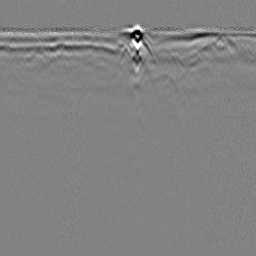cavity: (117, 41, 132, 62)
